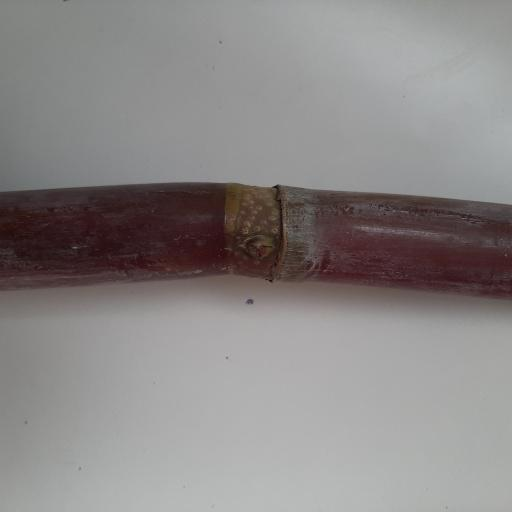Bud: (239, 232, 277, 258)
